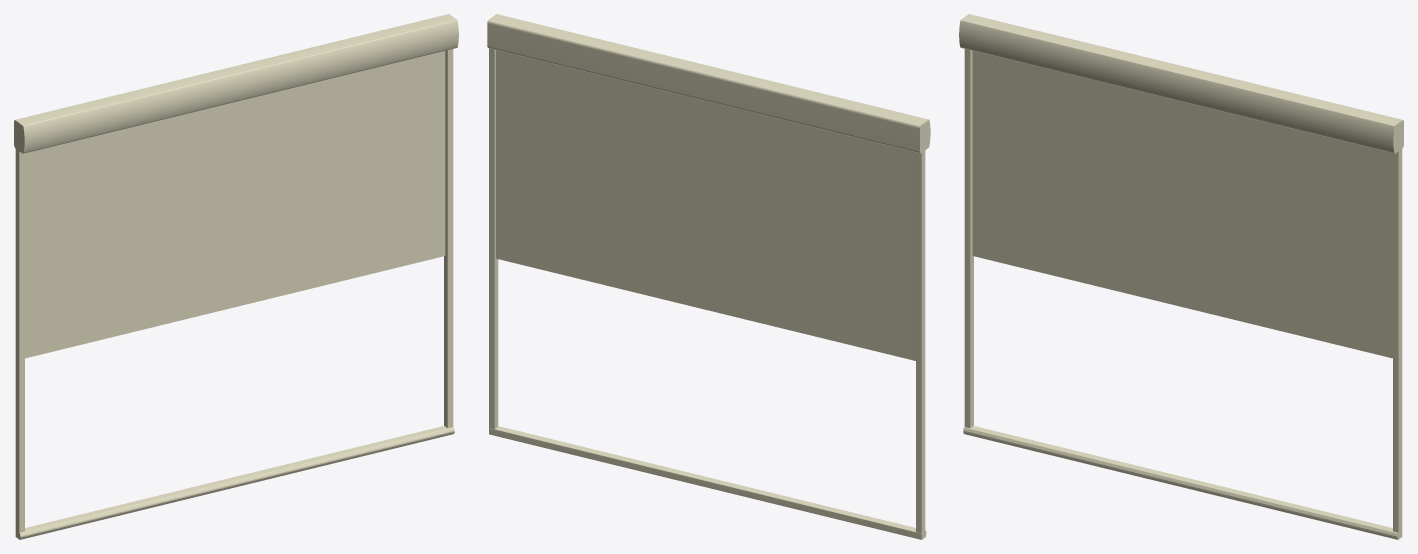
Rendered from 1013_zipper automatic curtain system 2.glb.
3 views of the same model, side by side, from view 1: azimuth 30°, elevation 25°; view 2: azimuth 150°, elevation 25°; view 3: azimuth 330°, elevation 25° (orthographic).
Visible parts, largest first — view 1: group__n3d, Main Profile_n3d, Lower Puller Profil_n3d, Side Channel_n3d2, Side Channel_n3d; view 2: group__n3d, Main Profile_n3d, Lower Puller Profil_n3d, Side Channel_n3d2, Side Channel_n3d; view 3: group__n3d, Main Profile_n3d, Lower Puller Profil_n3d, Side Channel_n3d, Side Channel_n3d2.
Boxes of the visible parts, x1=… form: group__n3d: x1=25, y1=51, x2=445, y2=358; Main Profile_n3d: x1=14, y1=14, x2=458, y2=153; Lower Puller Profil_n3d: x1=15, y1=426, x2=454, y2=539; Side Channel_n3d2: x1=15, y1=149, x2=24, y2=532; Side Channel_n3d: x1=444, y1=49, x2=453, y2=428; group__n3d: x1=496, y1=50, x2=915, y2=360; Main Profile_n3d: x1=487, y1=14, x2=930, y2=153; Lower Puller Profil_n3d: x1=489, y1=426, x2=926, y2=539; Side Channel_n3d2: x1=916, y1=151, x2=925, y2=533; Side Channel_n3d: x1=489, y1=48, x2=498, y2=429; group__n3d: x1=972, y1=51, x2=1392, y2=358; Main Profile_n3d: x1=959, y1=14, x2=1403, y2=153; Lower Puller Profil_n3d: x1=963, y1=426, x2=1402, y2=539; Side Channel_n3d: x1=1393, y1=149, x2=1402, y2=532; Side Channel_n3d2: x1=964, y1=49, x2=973, y2=428.
Size of the model in its own units: 2.4 by 2.2 by 0.101.
